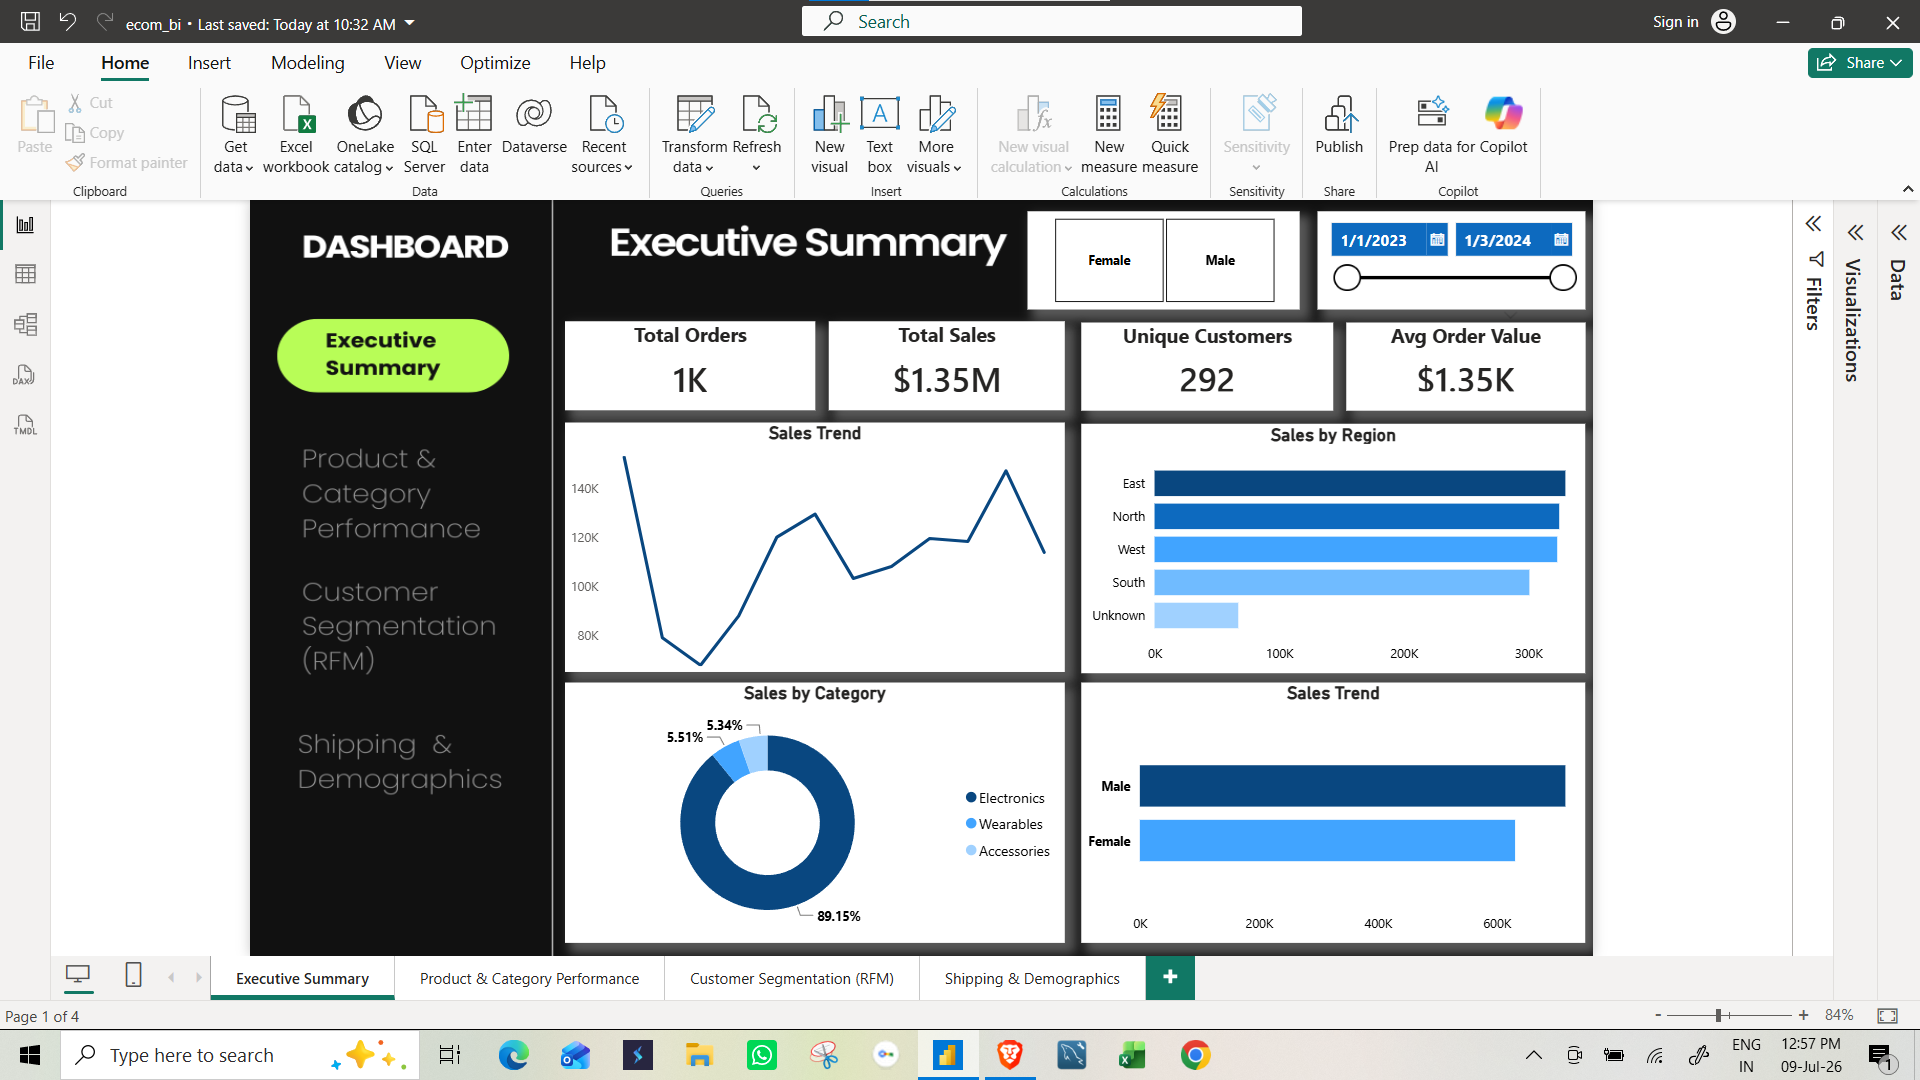

Layout of this report page (visuals, bound fields, positions):
{"tool":"powerbi","page":{"name":"Executive Summary","canvas":[1280,720],"ordinal":0},"visuals":[{"type":"actionButton","box":[0,225,286.8,120.8],"z":0},{"type":"actionButton","box":[0,345.8,286.8,134.5],"z":1000},{"type":"actionButton","box":[0,480.3,286.8,113.9],"z":2000},{"type":"cardVisual","title":"Total Sales","fields":{"Data":["clean_data.Total Sales"]},"box":[551.6,115.3,225,85.1],"z":3000},{"type":"cardVisual","title":"Total Orders","fields":{"Data":["clean_data.Total Orders"]},"box":[300.5,115.3,238.8,85.1],"z":4000},{"type":"cardVisual","title":"Unique Customers","fields":{"Data":["clean_data.Unique Customers"]},"box":[791.8,116.6,240.1,83.7],"z":5000},{"type":"cardVisual","title":"Avg Order Value","fields":{"Data":["clean_data.Avg Order Value"]},"box":[1044.3,116.6,227.8,83.7],"z":6000},{"type":"lineChart","title":"Sales Trend","fields":{"Category":["clean_data.Order Month.Variation.Date Hierarchy.Month"],"Y":["clean_data.Total Sales"]},"box":[300.5,211.3,476.2,237.4],"z":7000},{"type":"clusteredBarChart","title":"Sales by Region","fields":{"Category":["clean_data.Region"],"Y":["clean_data.Total Sales"]},"box":[791.8,212.7,480.3,237.4],"z":8000},{"type":"donutChart","title":"Sales by Category","fields":{"Y":["clean_data.Total Sales"],"Category":["clean_data.Category"]},"box":[300.5,459.7,476.2,248.4],"z":9000},{"type":"barChart","title":"Sales Trend","fields":{"Y":["clean_data.Total Sales"],"Category":["clean_data.Gender"]},"box":[791.8,459.7,480.3,248.4],"z":10000},{"type":"slicer","fields":{"Values":["clean_data.Order Date"]},"box":[1016.8,11,255.2,93.3],"z":11000},{"type":"slicer","fields":{"Values":["clean_data.Gender"]},"box":[741,11,259.3,93.3],"z":12000}]}

Visuals, with their boxes on the page's 1280x720 design canvas (x1, y1, x2, y2). These are canvas units, not pixel positions in the 1920x1080 screenshot, which may show the page scaled, cropped or inside an application window:
actionButton: region(0, 225, 287, 346)
actionButton: region(0, 346, 287, 480)
actionButton: region(0, 480, 287, 594)
"Total Sales" cardVisual: region(552, 115, 777, 200)
"Total Orders" cardVisual: region(300, 115, 539, 200)
"Unique Customers" cardVisual: region(792, 117, 1032, 200)
"Avg Order Value" cardVisual: region(1044, 117, 1272, 200)
"Sales Trend" lineChart: region(300, 211, 777, 449)
"Sales by Region" clusteredBarChart: region(792, 213, 1272, 450)
"Sales by Category" donutChart: region(300, 460, 777, 708)
"Sales Trend" barChart: region(792, 460, 1272, 708)
slicer - clean_data.Order Date: region(1017, 11, 1272, 104)
slicer - clean_data.Gender: region(741, 11, 1000, 104)
